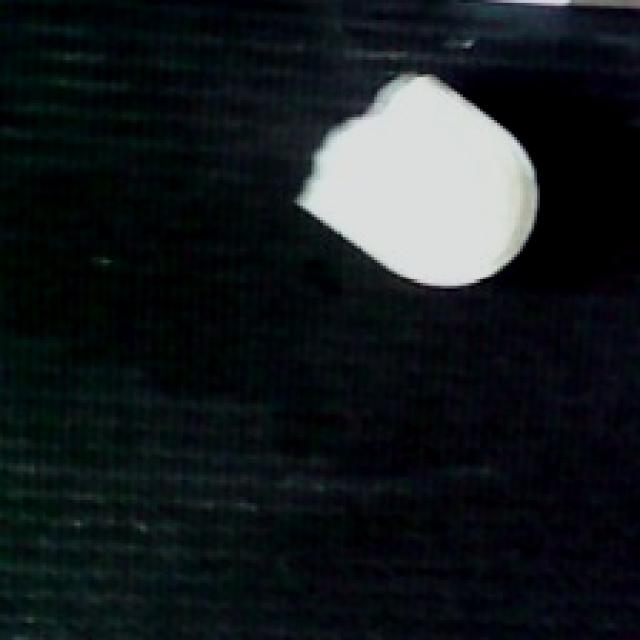defected: (288, 66, 548, 297)
